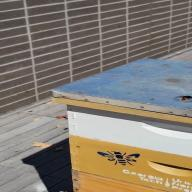Bee: (172, 93, 192, 105)
